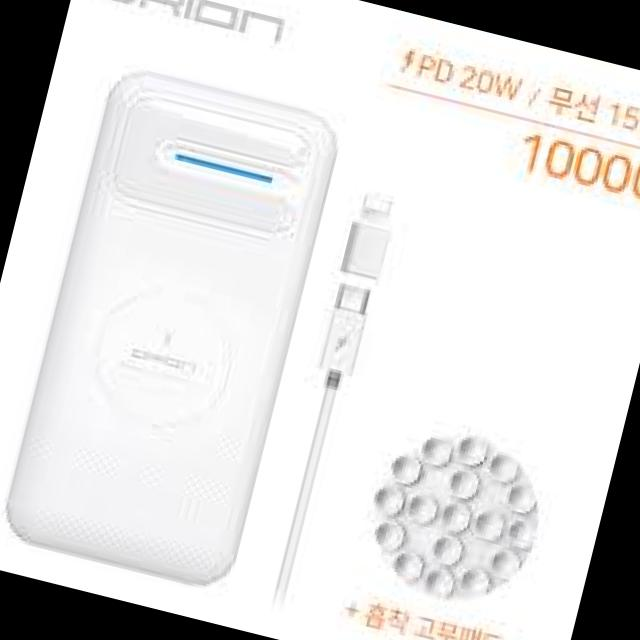portable-charger: (0, 56, 351, 602)
